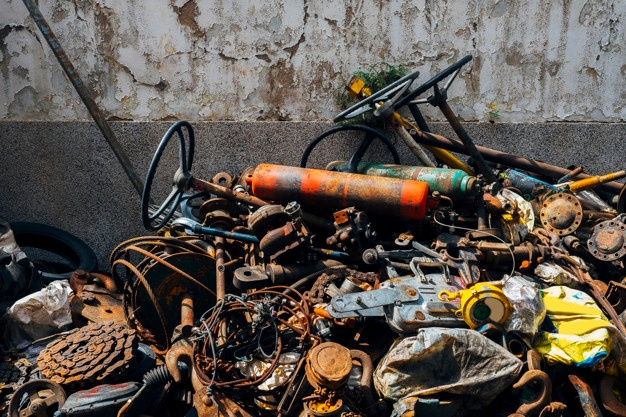Tanque: (252, 162, 427, 216), (370, 159, 472, 202), (495, 165, 578, 201)
llanta: (1, 219, 92, 277)
